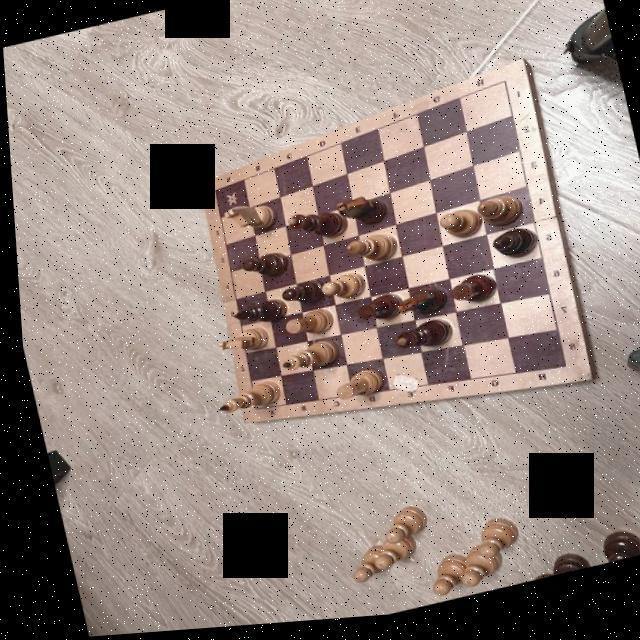chess-table-corners: (498, 82, 509, 92), (556, 370, 564, 378), (209, 190, 216, 196), (248, 409, 254, 414)
